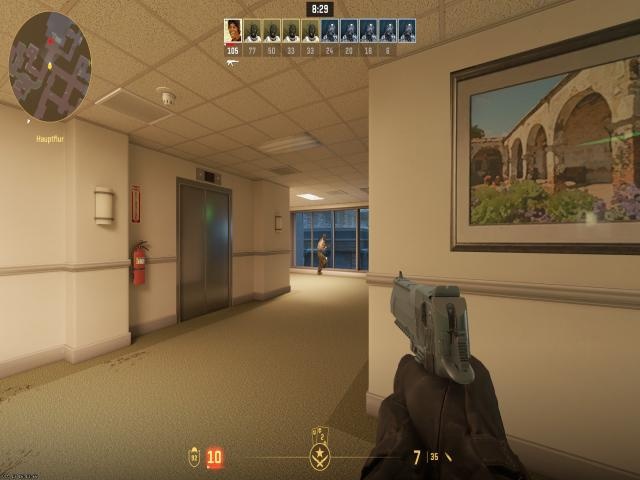T: (315, 234, 329, 270)
T-Head: (322, 234, 327, 239)
